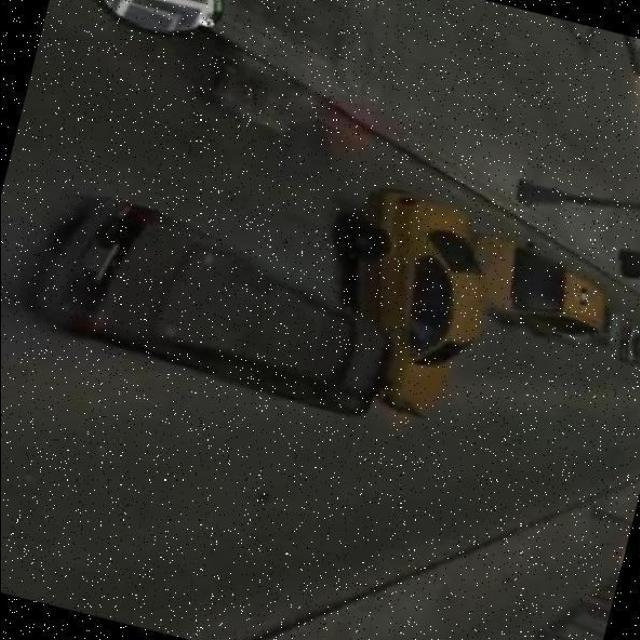accident: (213, 216, 483, 456)
